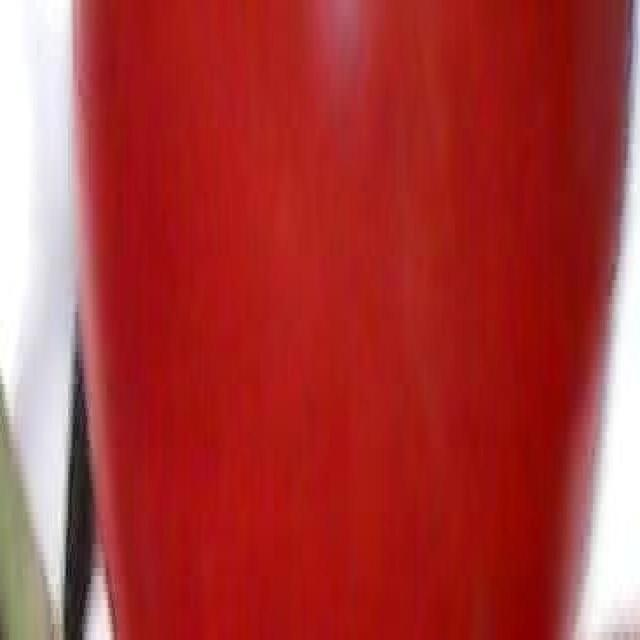Healthy Fruit: (48, 3, 426, 427)
